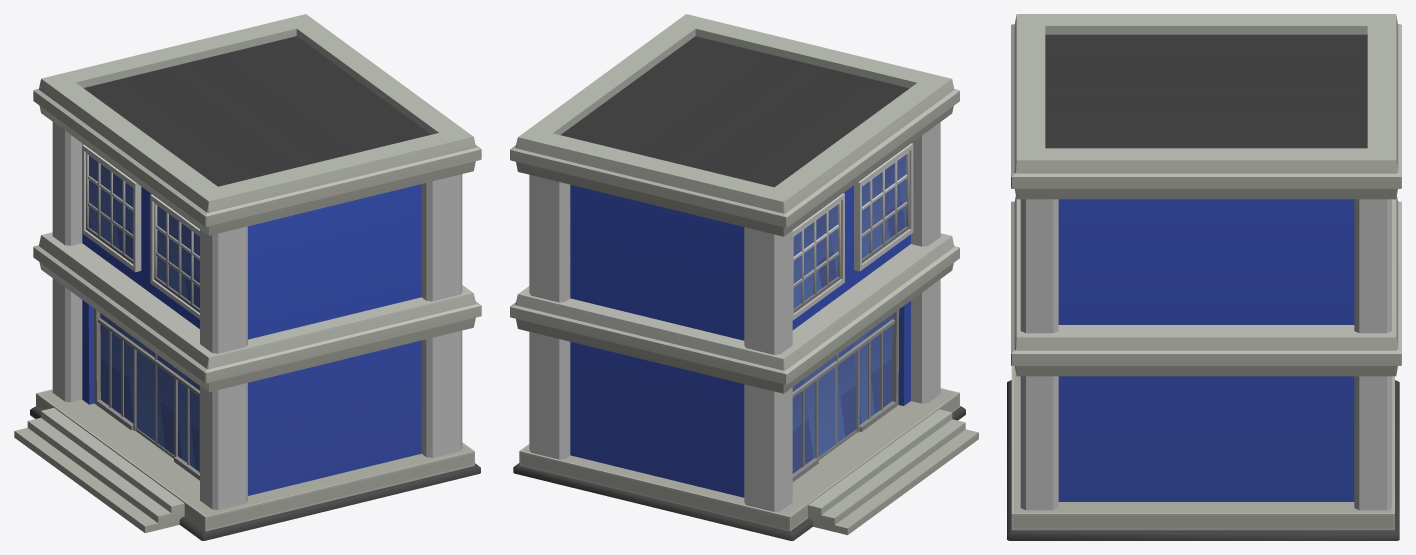
File: Building_9_2_A.fbx
3 views of the same model, side by side, from view 1: azimuth 30°, elevation 25°; view 2: azimuth 150°, elevation 25°; view 3: azimuth 270°, elevation 25° (orthographic). The views are drawn at different scales.
Parts seen in each view (by area): view 1: Building_9_2_A; view 2: Building_9_2_A; view 3: Building_9_2_A.
Part boxes in pixels (left/top/right/bottom): Building_9_2_A: left=14, top=14, right=481, bottom=540; Building_9_2_A: left=510, top=14, right=978, bottom=540; Building_9_2_A: left=1007, top=14, right=1401, bottom=540.
Size of the model in its own units: 947 by 958 by 906.
